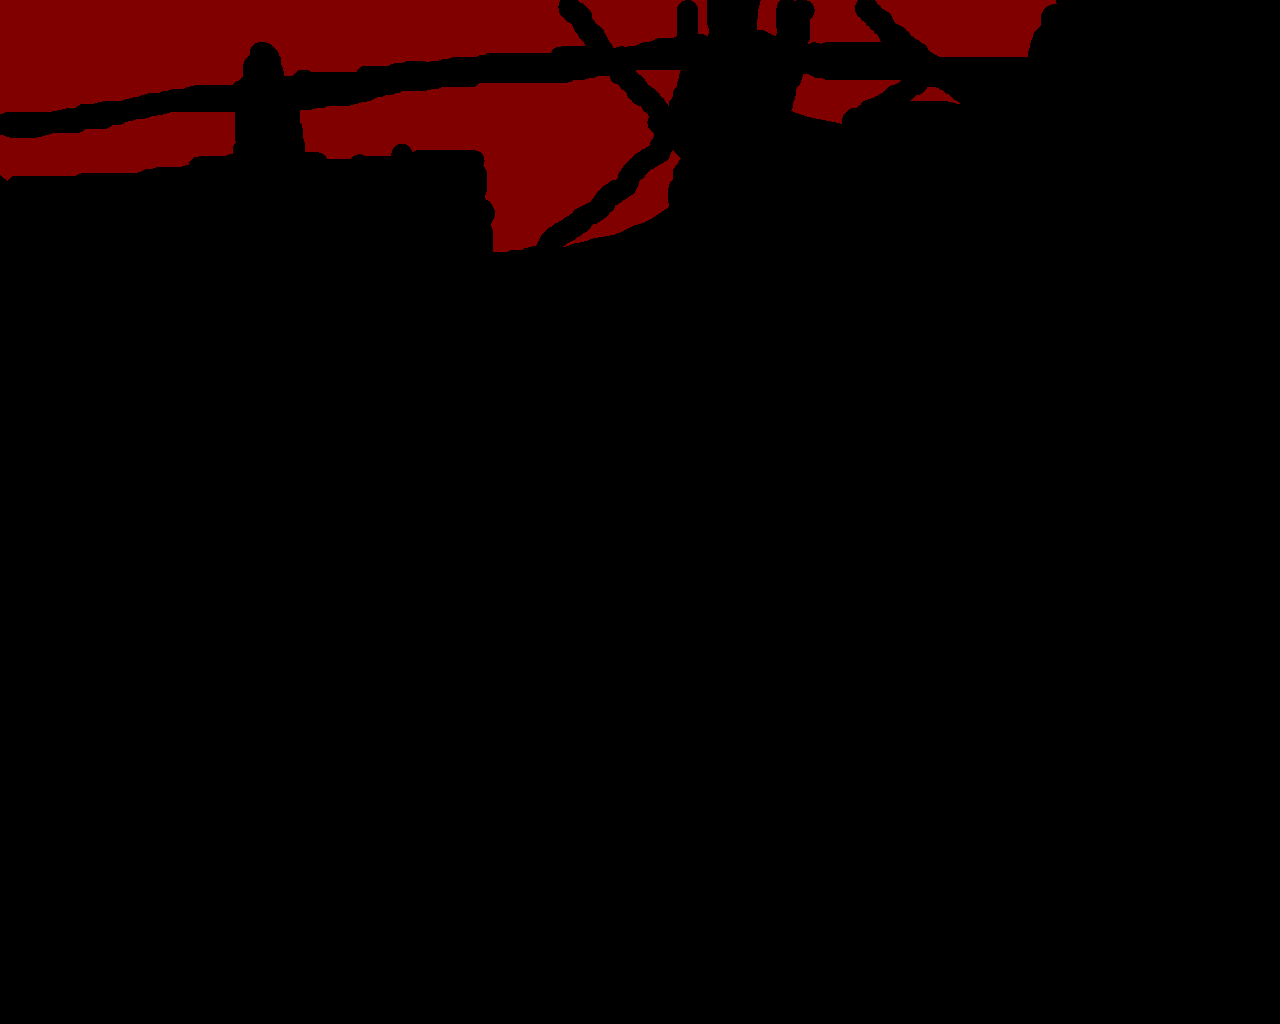Sky: (1, 1, 1056, 252)
